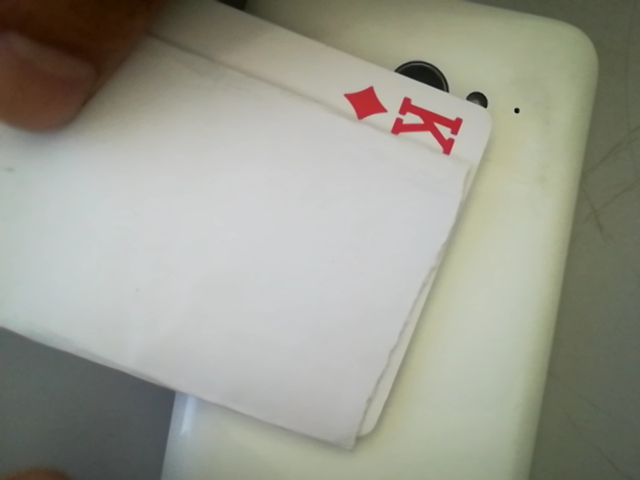fk k: (337, 74, 489, 156)
